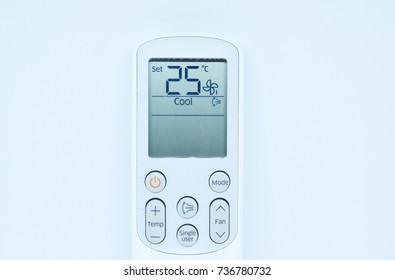Remote control: (128, 34, 245, 261)
